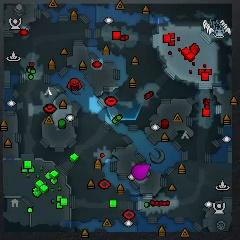p3: (132, 163, 151, 180)
